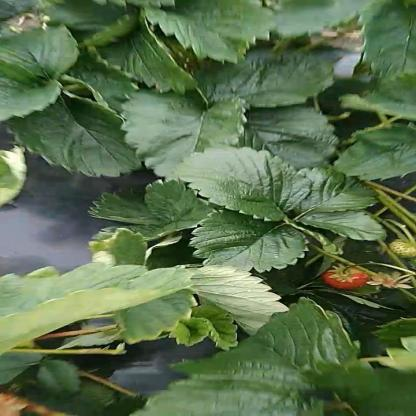ripe: (326, 262, 372, 291), (386, 237, 416, 261)
